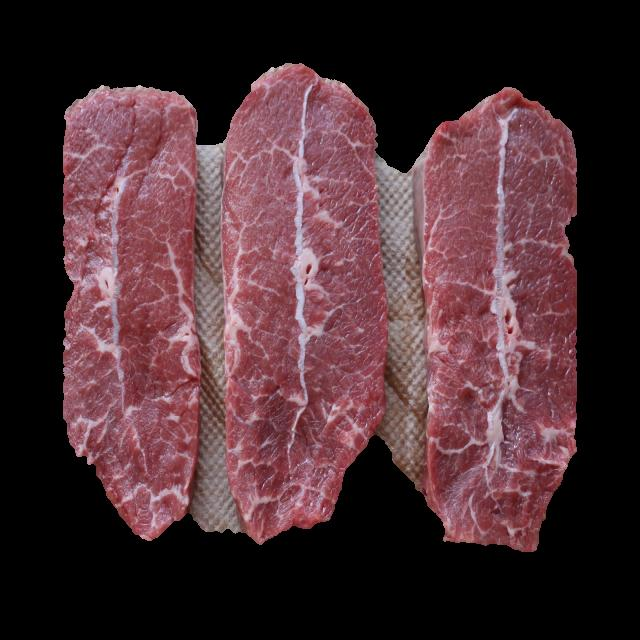beef: (238, 77, 367, 526), (66, 89, 196, 529), (437, 123, 570, 542)
